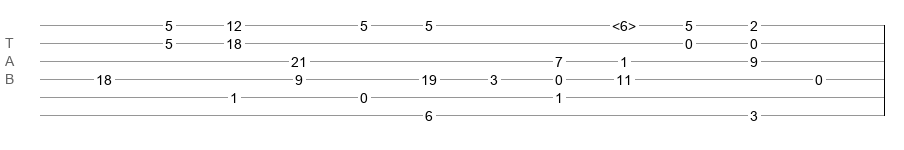0: (360, 90, 368, 100), (555, 72, 563, 82), (685, 36, 693, 46), (750, 36, 758, 46), (815, 72, 823, 82)
1: (230, 90, 238, 100), (555, 90, 563, 100), (620, 54, 628, 64)
11: (616, 72, 632, 82)
12: (226, 18, 242, 28)
18: (96, 72, 112, 82), (226, 36, 242, 46)
19: (421, 72, 437, 82)
2: (750, 18, 758, 28)
21: (291, 54, 307, 64)
3: (490, 72, 498, 82), (750, 108, 758, 118)
5: (165, 18, 173, 28), (165, 36, 173, 46), (360, 18, 368, 28), (425, 18, 433, 28), (685, 18, 693, 28)
6: (425, 108, 433, 118)
7: (555, 54, 563, 64)
9: (295, 72, 303, 82), (750, 54, 758, 64)
harmonic: (612, 18, 636, 28)
